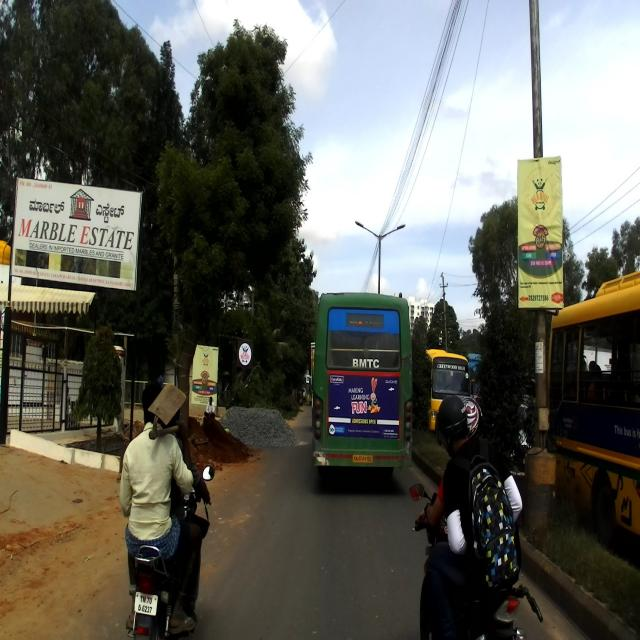bus: (310, 285, 414, 480)
motorcycle: (409, 483, 545, 638), (123, 463, 214, 639)
